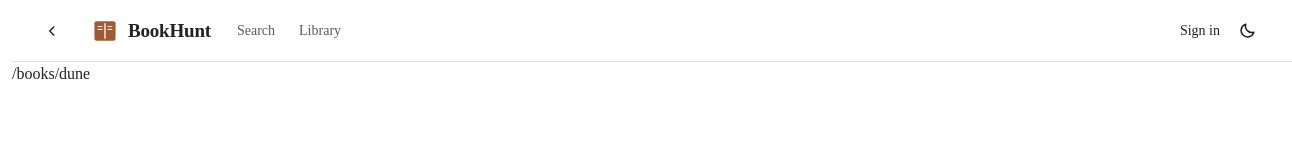
Test: TopBar › returns to the last search, filters and all, when Search is clicked
Click the link "Search".
click(256, 30)  # box [237,23,275,38]
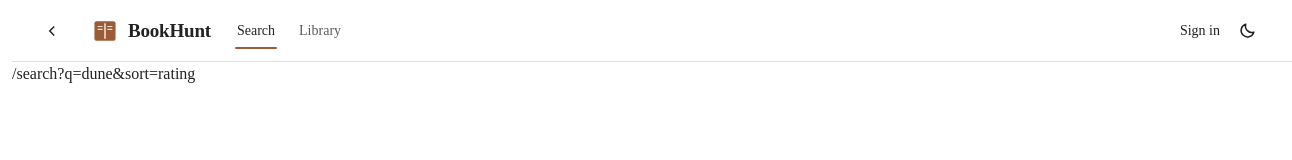
Check: the text with test id "location" reads "/search?q=dune&sort=rating", box [12,65,195,82]
